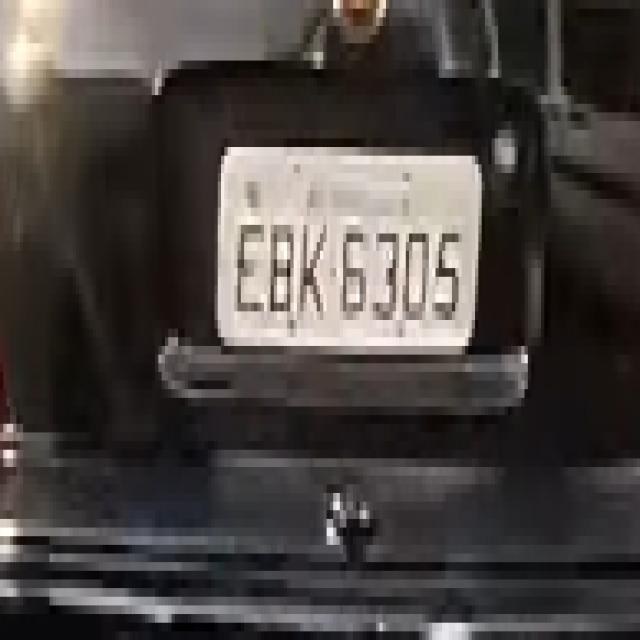Placa_mercosul_carro: (215, 144, 481, 352)
